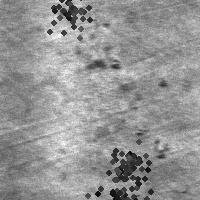rolled-in_scale: (119, 72, 170, 159), (80, 156, 160, 200), (99, 133, 157, 191), (74, 16, 121, 70), (41, 0, 97, 38)
